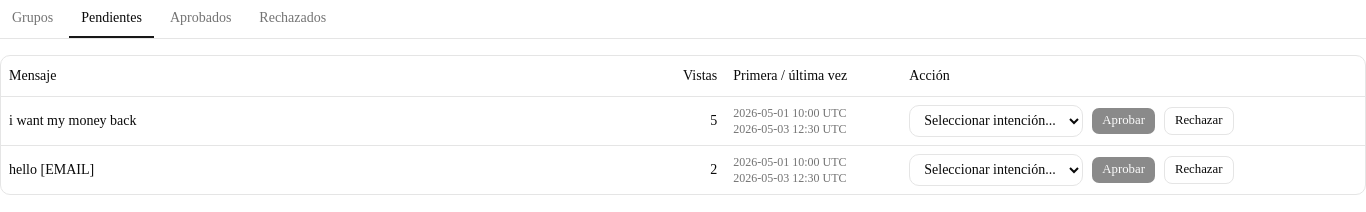
Test: ReviewQueue › rejects a message and removes it
The width and height of the screenshot is (1366, 212).
Step 1. Click the button "Rechazar" in the row of "hello [EMAIL]" → click(1199, 170), box 1164,156 -> 1234,184
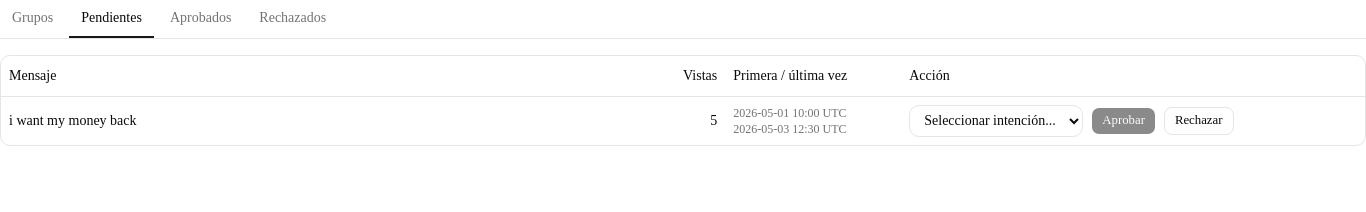
expect the text "hello [EMAIL]" is gone: met
